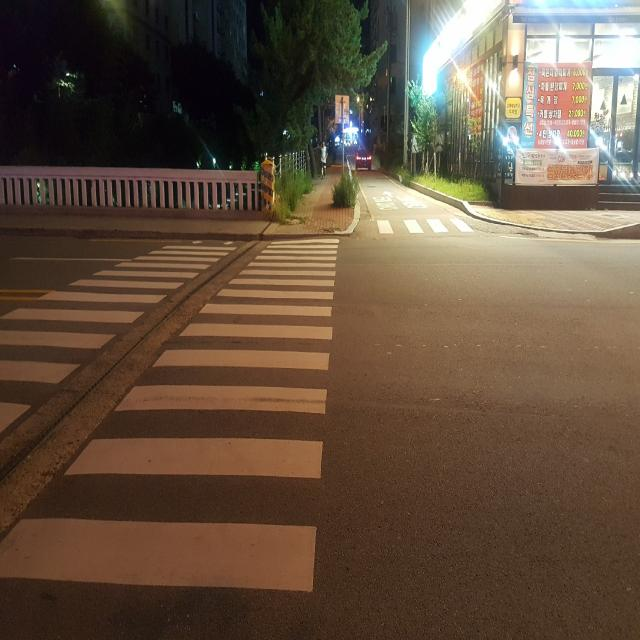횡단보도: (0, 238, 339, 592), (373, 208, 481, 242)
